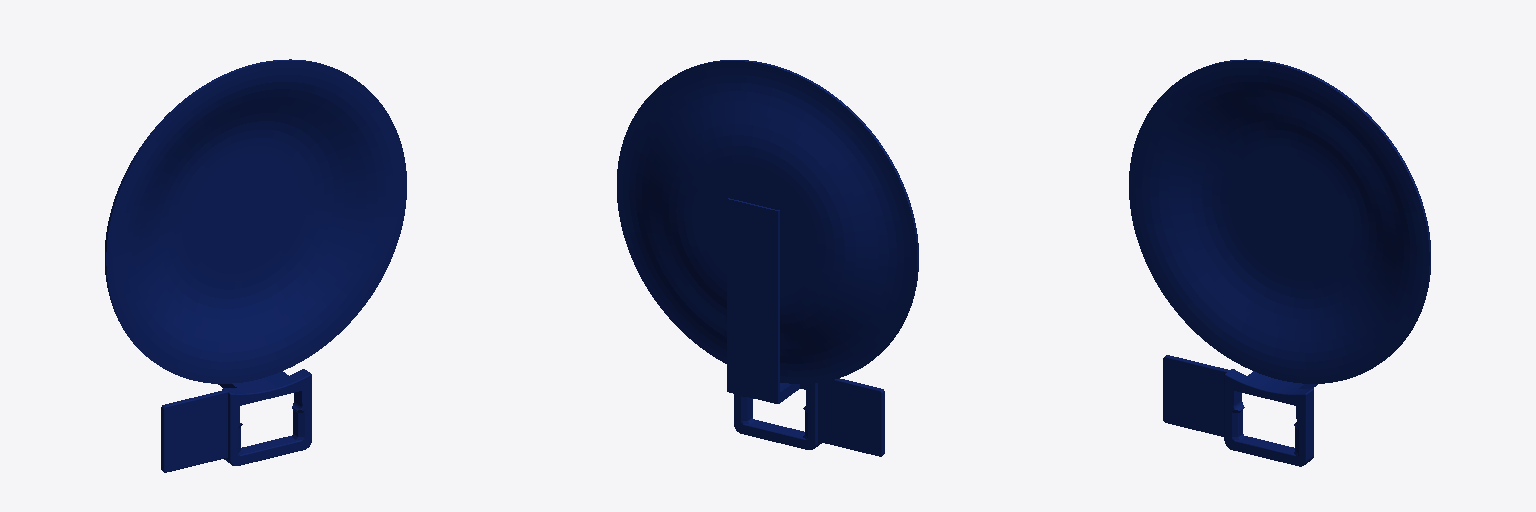
File: plate_with_holder.obj
3 views of the same model, side by side, from view 1: azimuth 30°, elevation 25°; view 2: azimuth 150°, elevation 25°; view 3: azimuth 330°, elevation 25° (orthographic).
Visible parts, largest first — view 1: Circle_Circle.006, plate_holder_v2; view 2: Circle_Circle.006, plate_holder_v2; view 3: Circle_Circle.006, plate_holder_v2.
Part boxes in pixels (x1,y1,x2,y2): Circle_Circle.006: (105,59,406,383); plate_holder_v2: (161,369,311,472); Circle_Circle.006: (617,60,918,383); plate_holder_v2: (727,198,884,456); Circle_Circle.006: (1129,59,1430,383); plate_holder_v2: (1163,355,1317,466).
Bounding box in the file's own units: 0.2981 × 0.3628 × 0.0517.